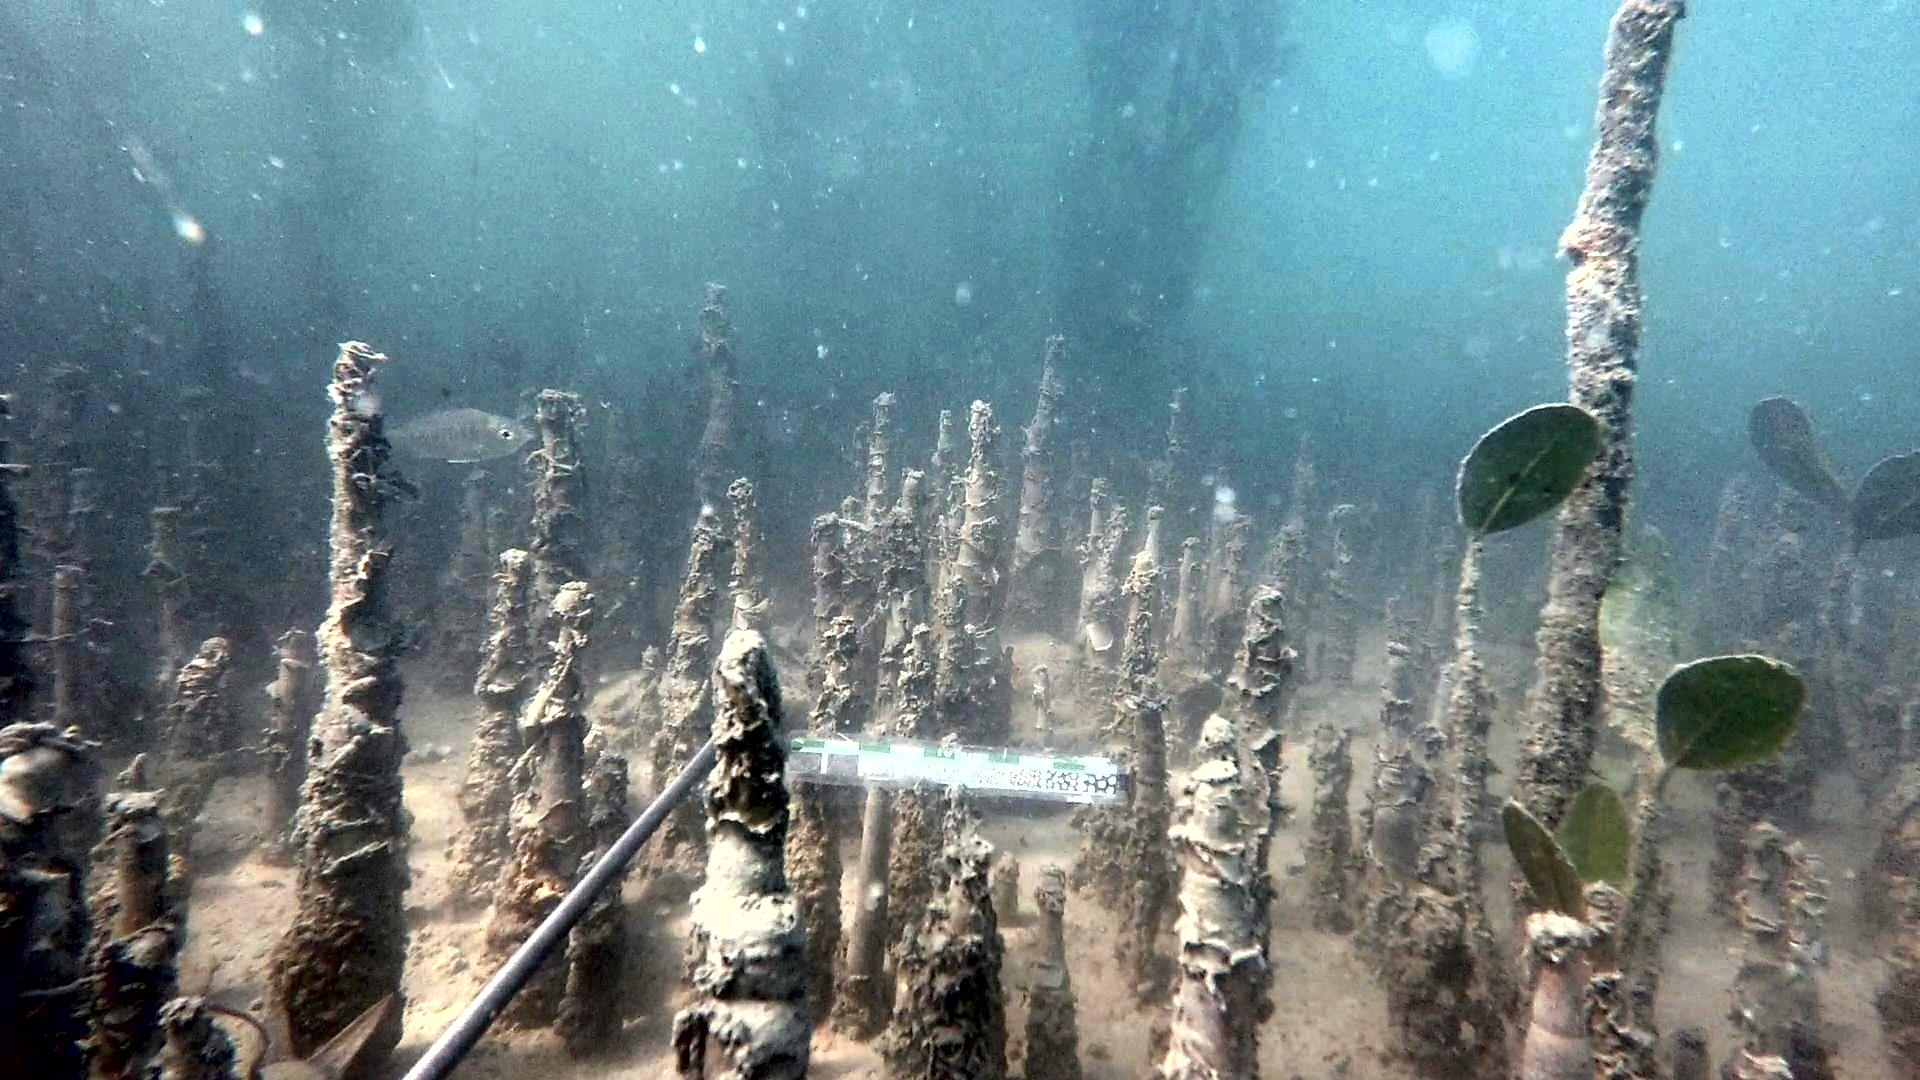gerres: (385, 385, 535, 464)
